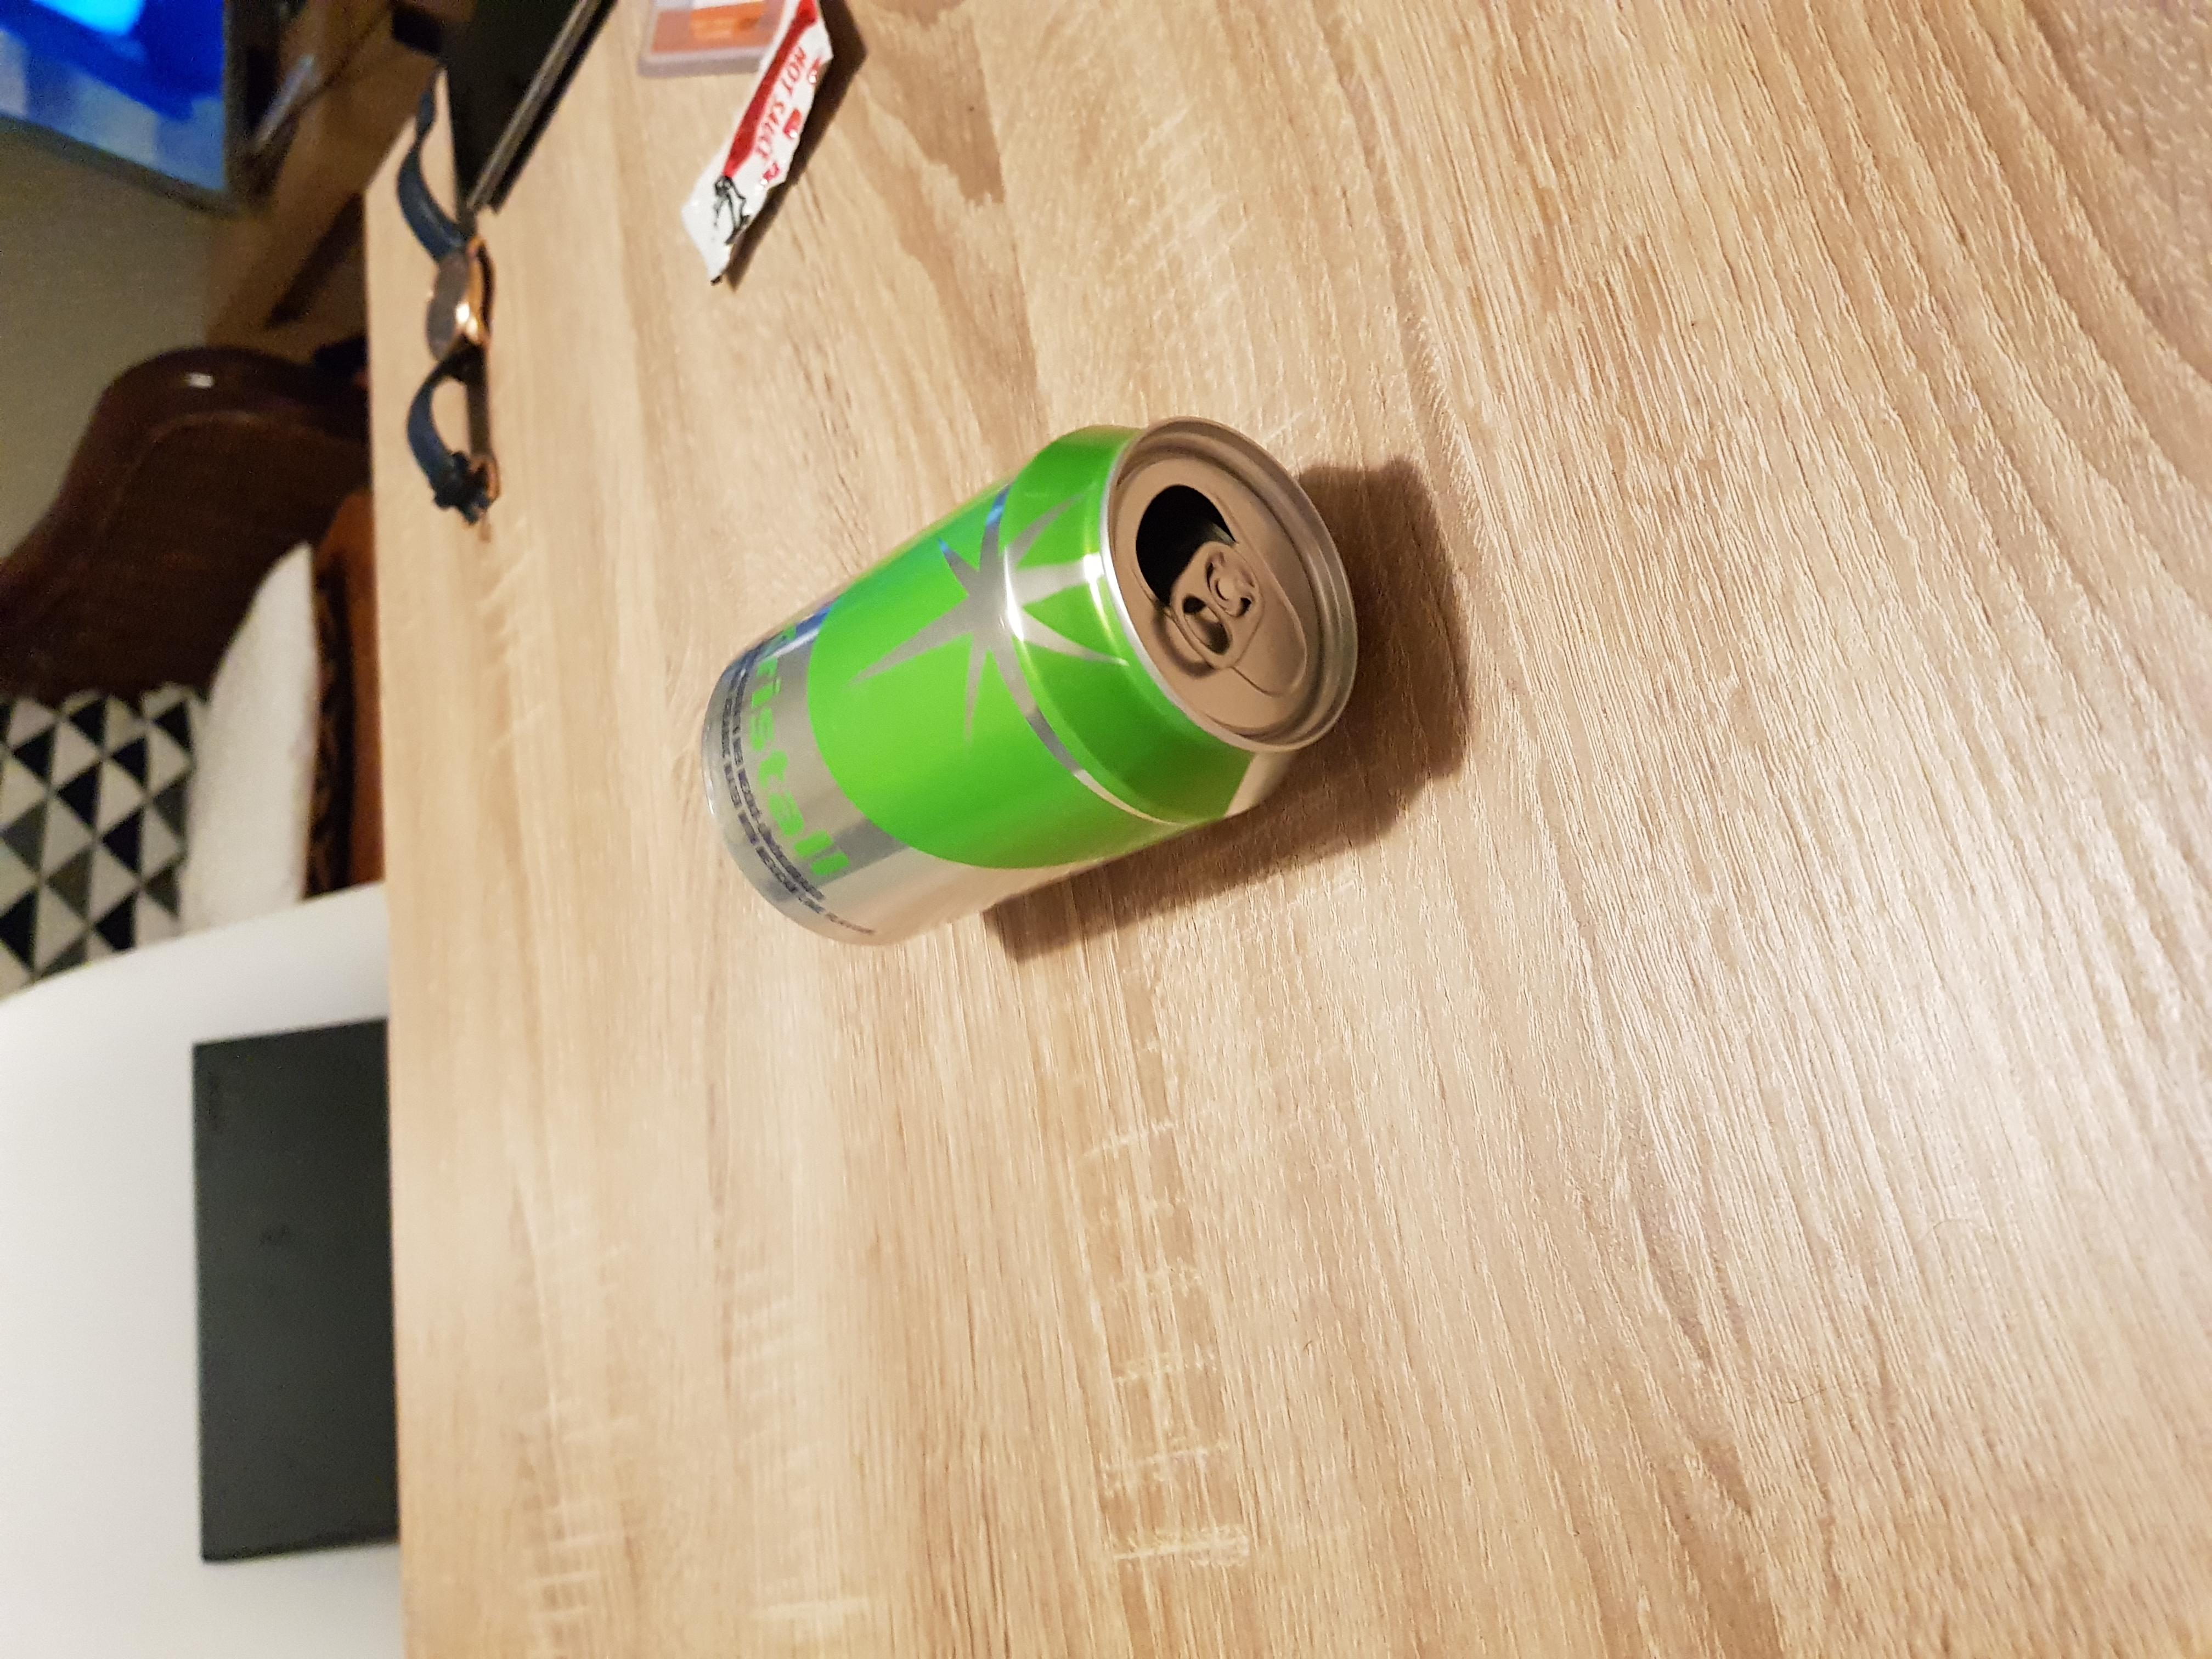can: (691, 423, 1369, 938)
